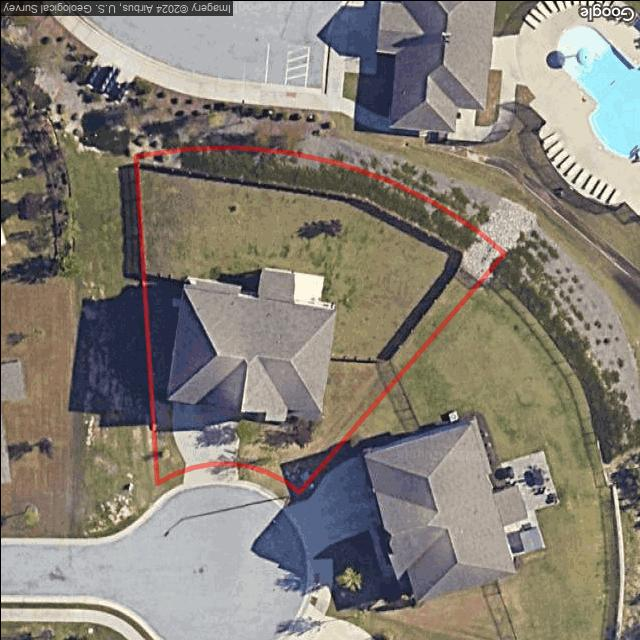Driveway: (172, 400, 240, 470)
Extra-Driveway: (182, 464, 238, 487)
Extra-Lawn: (235, 462, 299, 503), (155, 470, 184, 493)
House: (166, 268, 338, 421)
Lawn: (136, 148, 505, 492)
Other: (136, 146, 504, 280), (261, 408, 322, 449), (293, 270, 334, 309)
